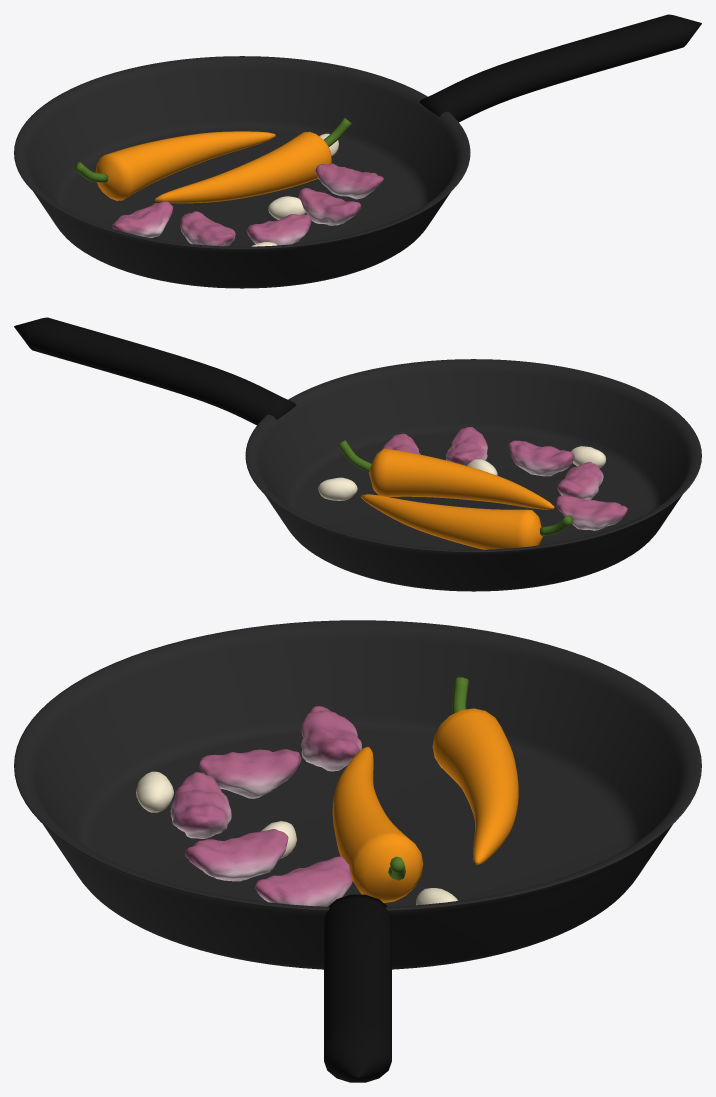
File: paso-2.glb
3 renders of one model, top to bottom at view 1: azimuth 30°, elevation 25°; view 2: azimuth 150°, elevation 25°; view 3: azimuth 270°, elevation 25°, orthographic. The views are drawn at different scales.
Parts seen in each view (by area): view 1: paso-2-0, paso-2-1, paso-2-2, paso-2-4, paso-2-9, paso-2-8, paso-2-7, paso-2-10, paso-2-6, paso-2-11; view 2: paso-2-0, paso-2-1, paso-2-4, paso-2-2, paso-2-10, paso-2-7, paso-2-6, paso-2-8, paso-2-12, paso-2-13, paso-2-9; view 3: paso-2-0, paso-2-1, paso-2-2, paso-2-4, paso-2-8, paso-2-6, paso-2-9, paso-2-7, paso-2-10, paso-2-13.
Part boxes in pixels (<box>): paso-2-0: <box>14,56,470,288</box>; paso-2-1: <box>419,14,701,122</box>; paso-2-2: <box>95,131,275,200</box>; paso-2-4: <box>155,131,331,203</box>; paso-2-9: <box>315,163,383,199</box>; paso-2-8: <box>298,188,361,225</box>; paso-2-7: <box>246,214,311,245</box>; paso-2-10: <box>112,201,173,237</box>; paso-2-6: <box>180,211,235,246</box>; paso-2-11: <box>268,196,305,219</box>; paso-2-0: <box>245,359,701,591</box>; paso-2-1: <box>14,317,296,425</box>; paso-2-4: <box>369,448,554,509</box>; paso-2-2: <box>360,494,542,549</box>; paso-2-10: <box>556,495,627,530</box>; paso-2-7: <box>508,440,574,476</box>; paso-2-6: <box>557,461,603,499</box>; paso-2-8: <box>446,427,487,465</box>; paso-2-12: <box>318,477,357,500</box>; paso-2-13: <box>570,446,606,468</box>; paso-2-9: <box>382,433,420,454</box>; paso-2-0: <box>14,620,701,969</box>; paso-2-1: <box>324,894,391,1082</box>; paso-2-2: <box>432,708,518,864</box>; paso-2-4: <box>332,746,423,902</box>; paso-2-8: <box>185,829,288,881</box>; paso-2-6: <box>199,749,301,798</box>; paso-2-9: <box>255,856,352,906</box>; paso-2-7: <box>170,772,231,838</box>; paso-2-10: <box>300,706,361,771</box>; paso-2-13: <box>136,771,173,812</box>.
Size of the model in its own units: 0.4219 by 0.054 by 0.2539.
